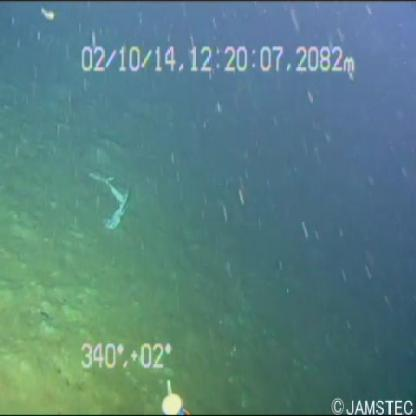Rov: (153, 374, 197, 416)
Rác: (77, 157, 134, 236)
